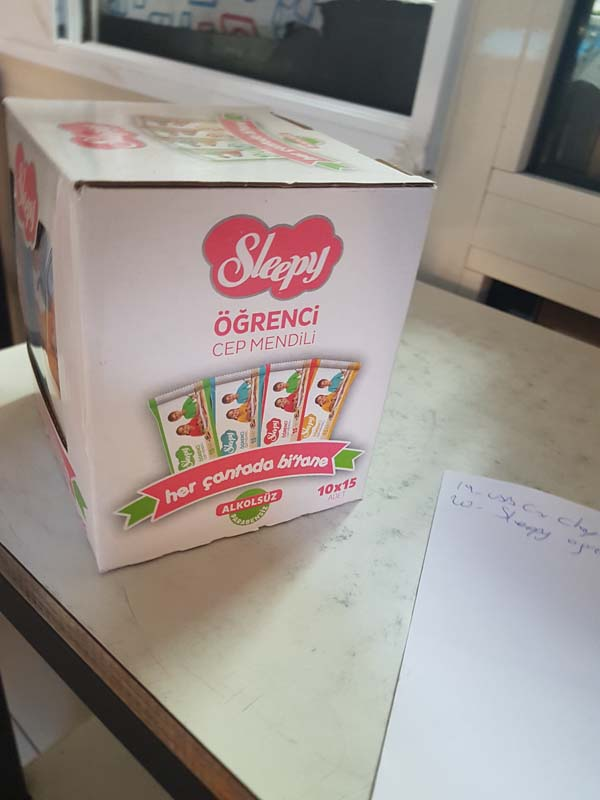sleepyogrencikoli: (1, 88, 447, 583)
